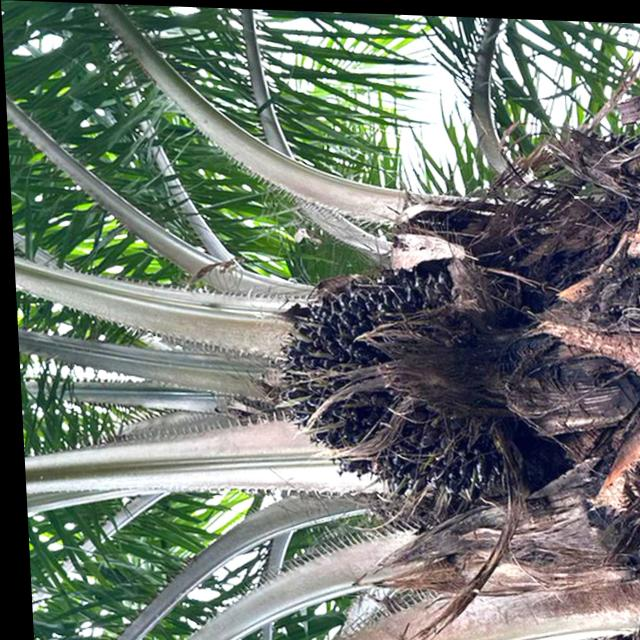unripe: (258, 250, 525, 507)
